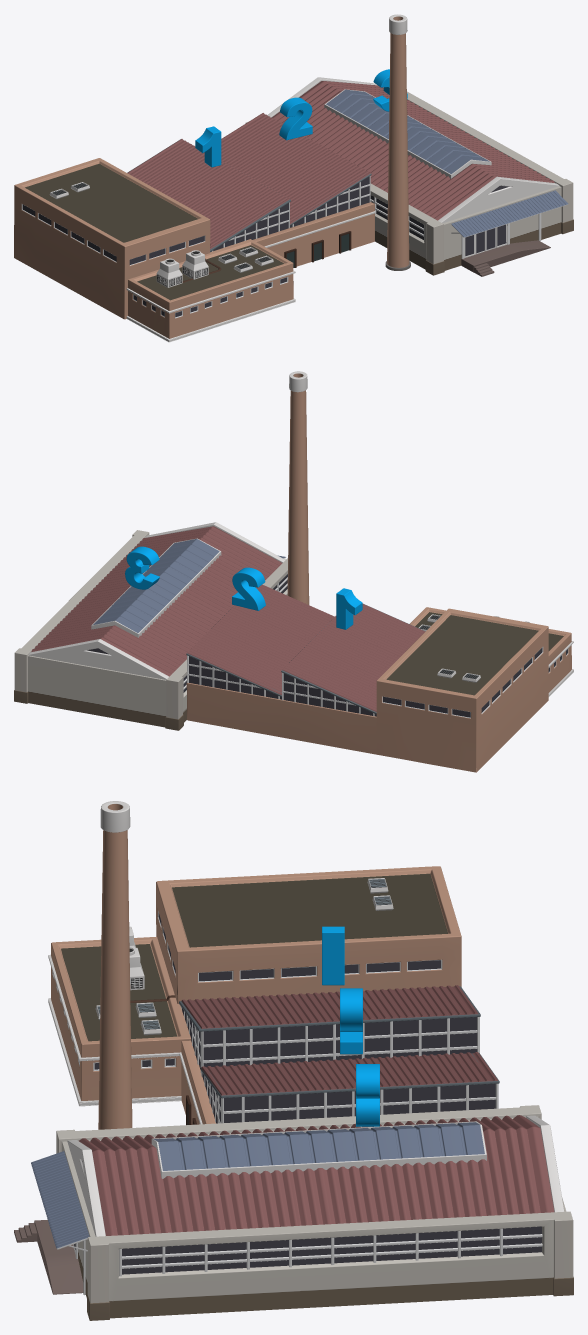
File: Factory123.glb
The picture shows the model from 3 angles, top to bottom: view 1: azimuth 30°, elevation 25°; view 2: azimuth 150°, elevation 25°; view 3: azimuth 270°, elevation 25°; orthographic projection. The views are drawn at different scales.
Parts seen in each view (by area): view 1: node_id5, node_id108, node_id114, node_id102; view 2: node_id5, node_id108, node_id102, node_id114; view 3: node_id5, node_id108, node_id102, node_id114.
Boxes of the visible parts, x1=… form: node_id5: x1=14, y1=14, x2=573, y2=342; node_id108: x1=279, y1=97, x2=312, y2=140; node_id114: x1=195, y1=126, x2=221, y2=167; node_id102: x1=373, y1=69, x2=407, y2=111; node_id5: x1=14, y1=371, x2=573, y2=772; node_id108: x1=232, y1=567, x2=265, y2=610; node_id102: x1=125, y1=546, x2=159, y2=589; node_id114: x1=336, y1=588, x2=362, y2=629; node_id5: x1=14, y1=801, x2=573, y2=1320; node_id108: x1=340, y1=988, x2=362, y2=1054; node_id102: x1=356, y1=1064, x2=379, y2=1126; node_id114: x1=322, y1=926, x2=344, y2=985.
Bounding box in the file's own units: 0.5061 × 0.2674 × 0.3507.
4 materials, 4 textured.
